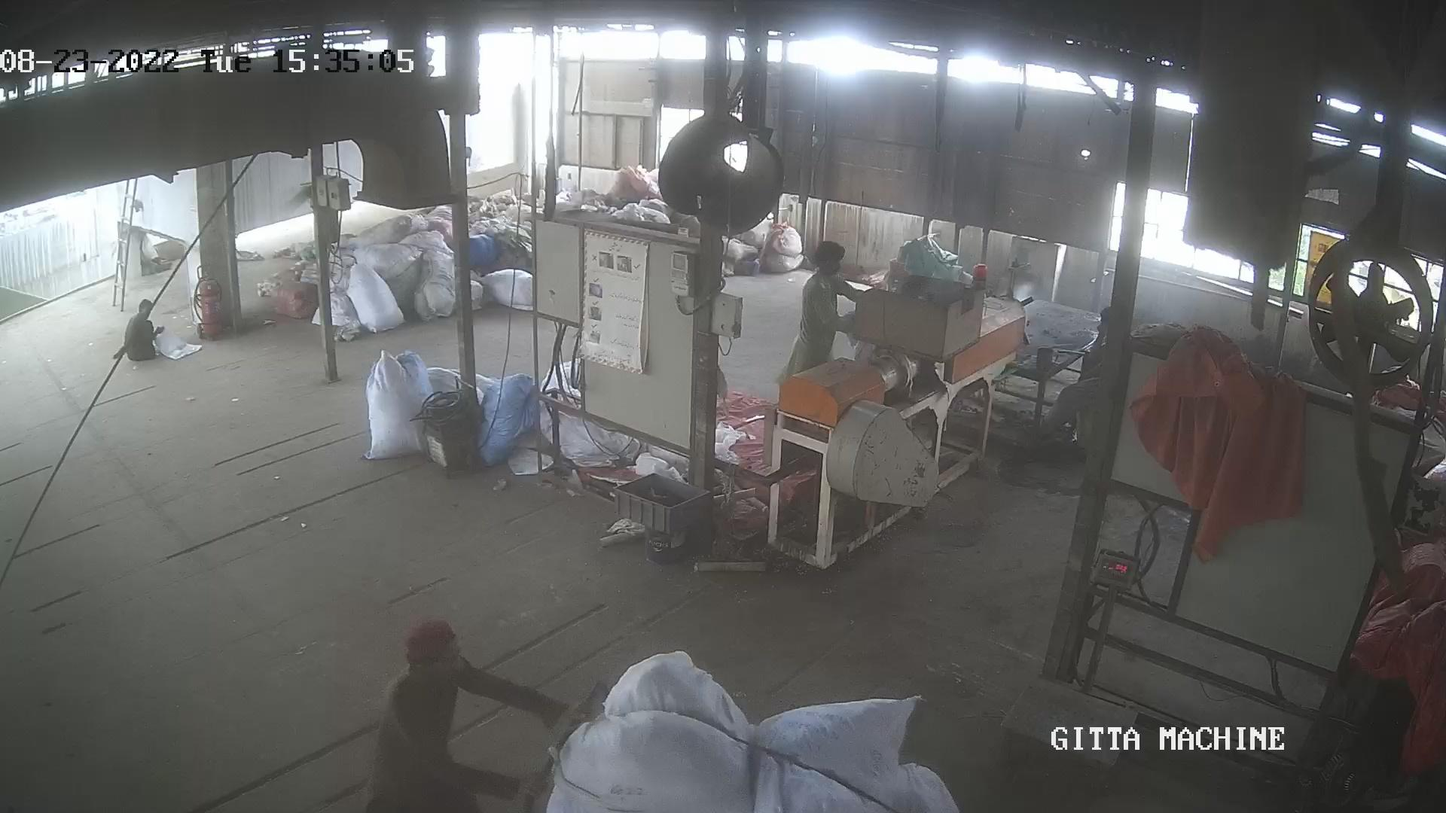person: (803, 244, 851, 368)
